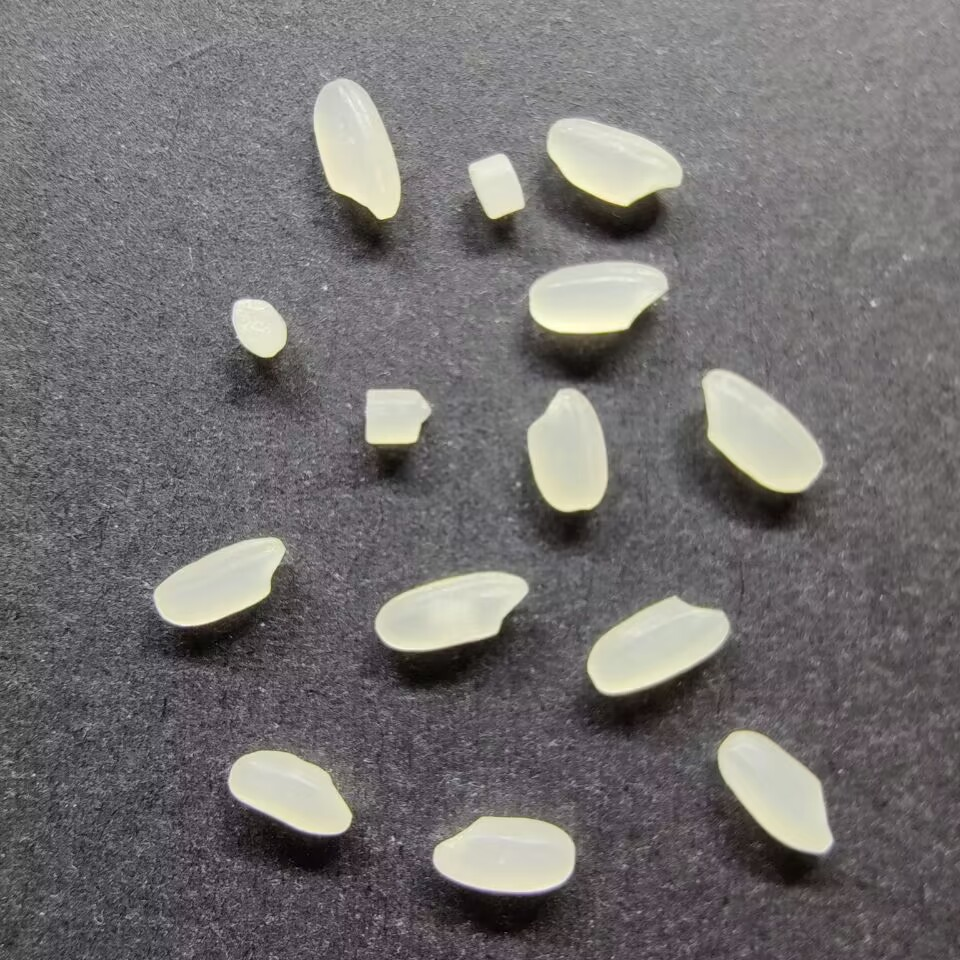broken: (361, 387, 432, 446), (467, 152, 526, 219), (230, 297, 289, 360)
rice: (701, 367, 825, 495), (715, 728, 835, 856), (586, 594, 731, 697), (310, 77, 401, 220), (372, 570, 529, 651), (545, 116, 682, 207), (153, 535, 285, 626), (430, 814, 576, 894), (227, 748, 352, 838), (527, 258, 668, 336), (524, 386, 608, 512)
